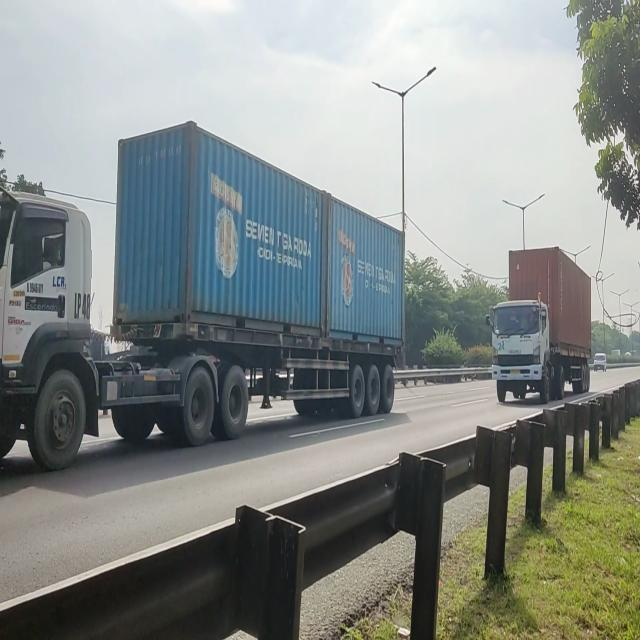Golongan V: (0, 146, 405, 476), (489, 243, 592, 407)
